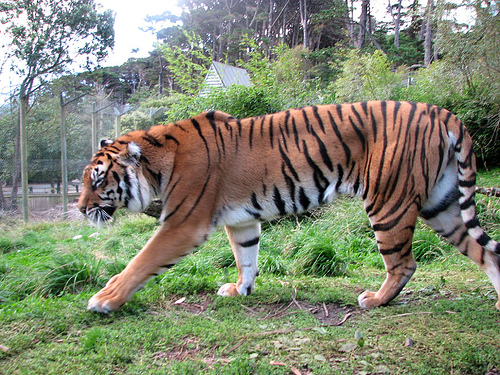Tigre: (81, 114, 494, 319)
